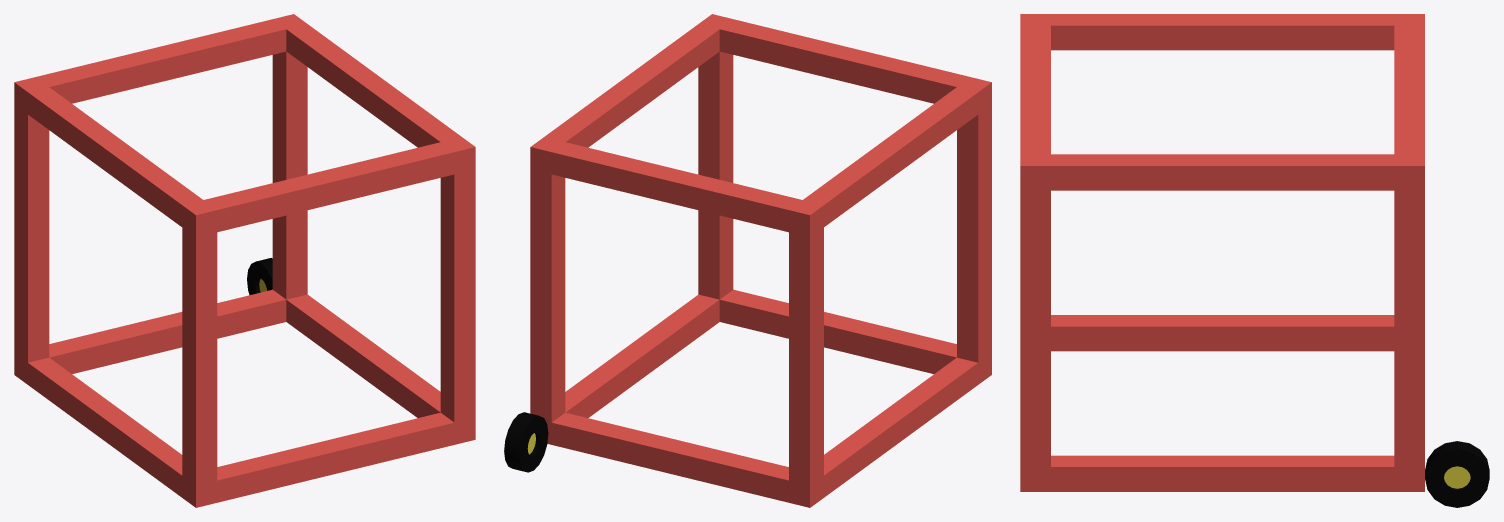
The model's file is other.glb.
The picture shows the model from 3 angles, left to right: view 1: azimuth 30°, elevation 25°; view 2: azimuth 150°, elevation 25°; view 3: azimuth 270°, elevation 25°; orthographic projection. The views are drawn at different scales.
Parts seen in each view (by area): view 1: Plane, Cylinder; view 2: Plane, Cylinder; view 3: Plane, Cylinder.
Boxes of the visible parts, x1,y1,x2,y2 form: Plane: (14,14,475,507); Cylinder: (247,258,272,295); Plane: (530,14,991,507); Cylinder: (504,412,548,472); Plane: (1020,14,1424,491); Cylinder: (1425,441,1489,507).
Size of the model in its own units: 0.2345 by 0.2472 by 0.3061.
